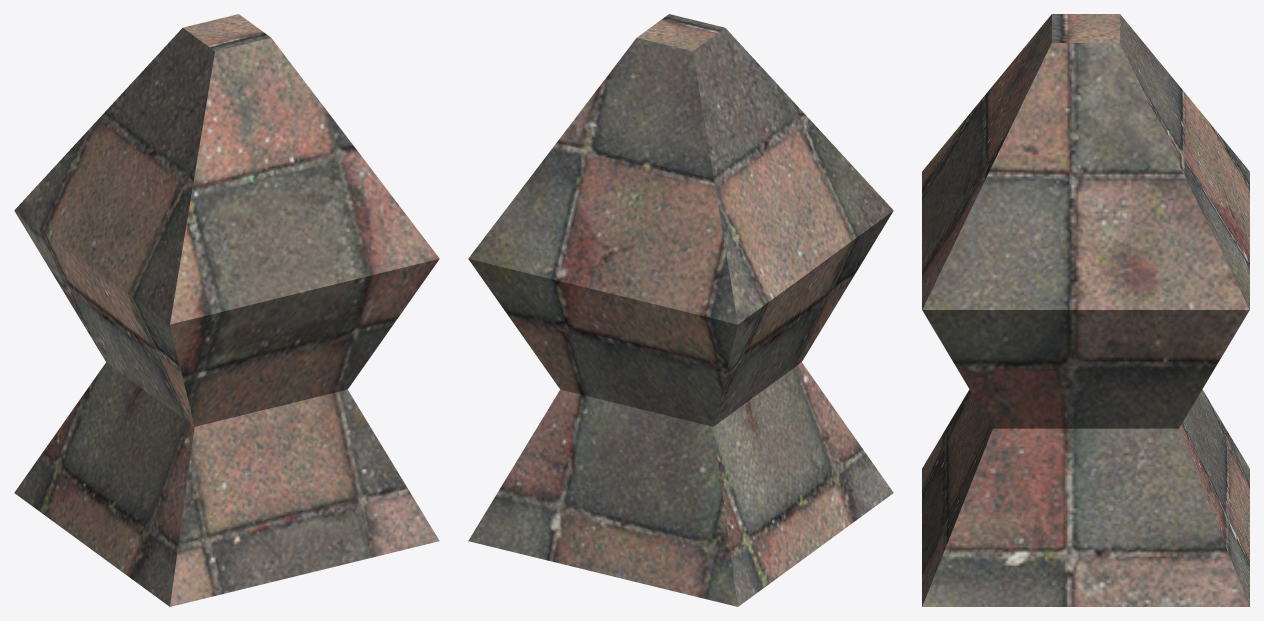
File: mini tower.glb
3 views of the same model, side by side, from view 1: azimuth 30°, elevation 25°; view 2: azimuth 150°, elevation 25°; view 3: azimuth 270°, elevation 25° (orthographic). The views are drawn at different scales.
Parts seen in each view (by area): view 1: Cube; view 2: Cube; view 3: Cube.
Part boxes in pixels (<box>): Cube: <box>14,14,439,606</box>; Cube: <box>468,14,893,606</box>; Cube: <box>922,14,1249,606</box>.
Bounding box in the file's own units: 2 × 3.43 × 2.
Materials: 1 (1 with a texture image).
